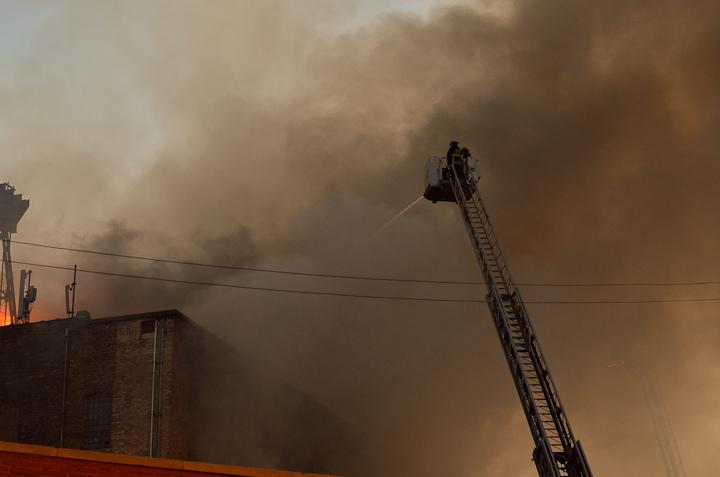smoke: (523, 5, 709, 239), (158, 169, 391, 313)
